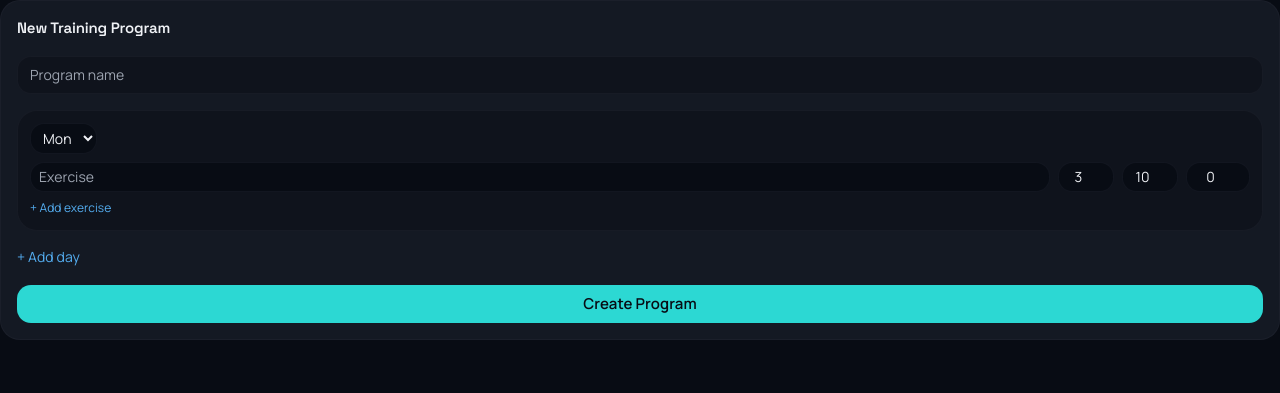
Test: TrainingProgramForm › shows error when name is empty
The width and height of the screenshot is (1280, 393).
Click the button "Create Program".
click(640, 304)  # box x1=17 y1=284 x2=1263 y2=323
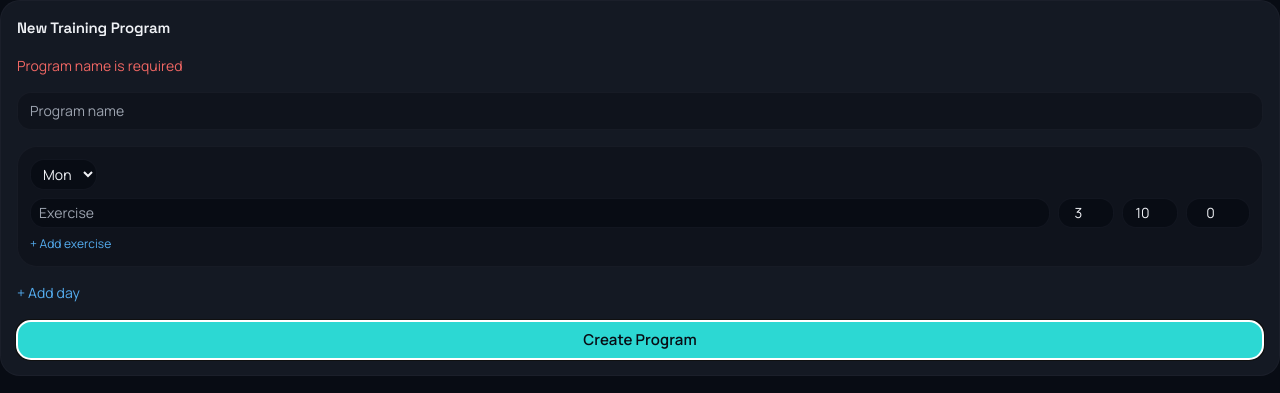
Check: the text "Program name is required" is shown, box x1=17 y1=56 x2=183 y2=74
